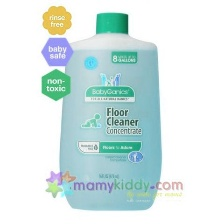cleaning_solution: (53, 8, 168, 216)
